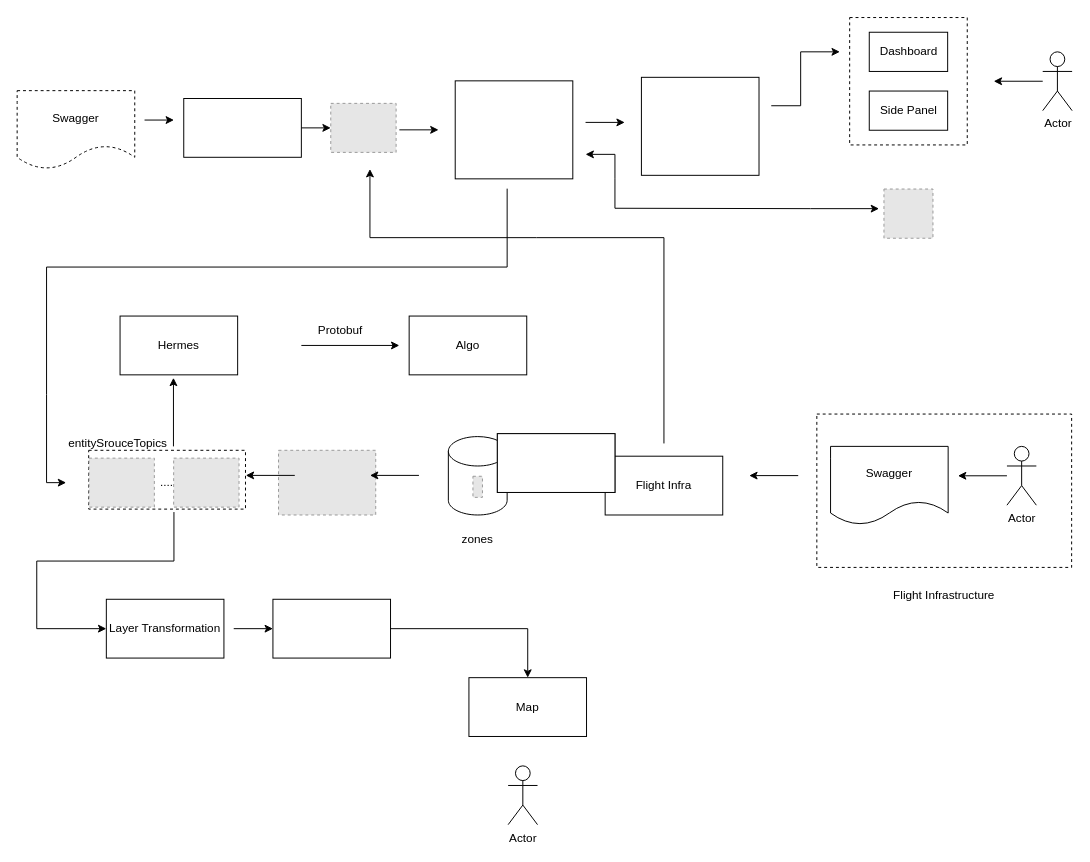
The diagram is 1090 pixels wide and 862 high, and some of its shapes have lost their labels. Grey dashed boxes stand in for pictures. Each missing label, with the box of its shape:
GC Manager: (183, 98, 301, 157)
Layer Manager: (272, 598, 391, 658)
Theseus Gayteway: (640, 76, 759, 175)
Theseus Manager: (454, 80, 573, 179)
